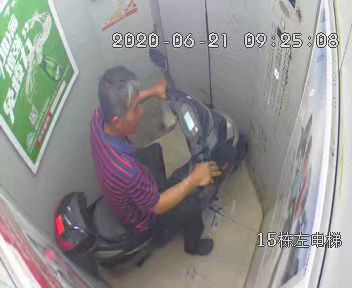Electric-bicycle: (56, 48, 244, 257)
